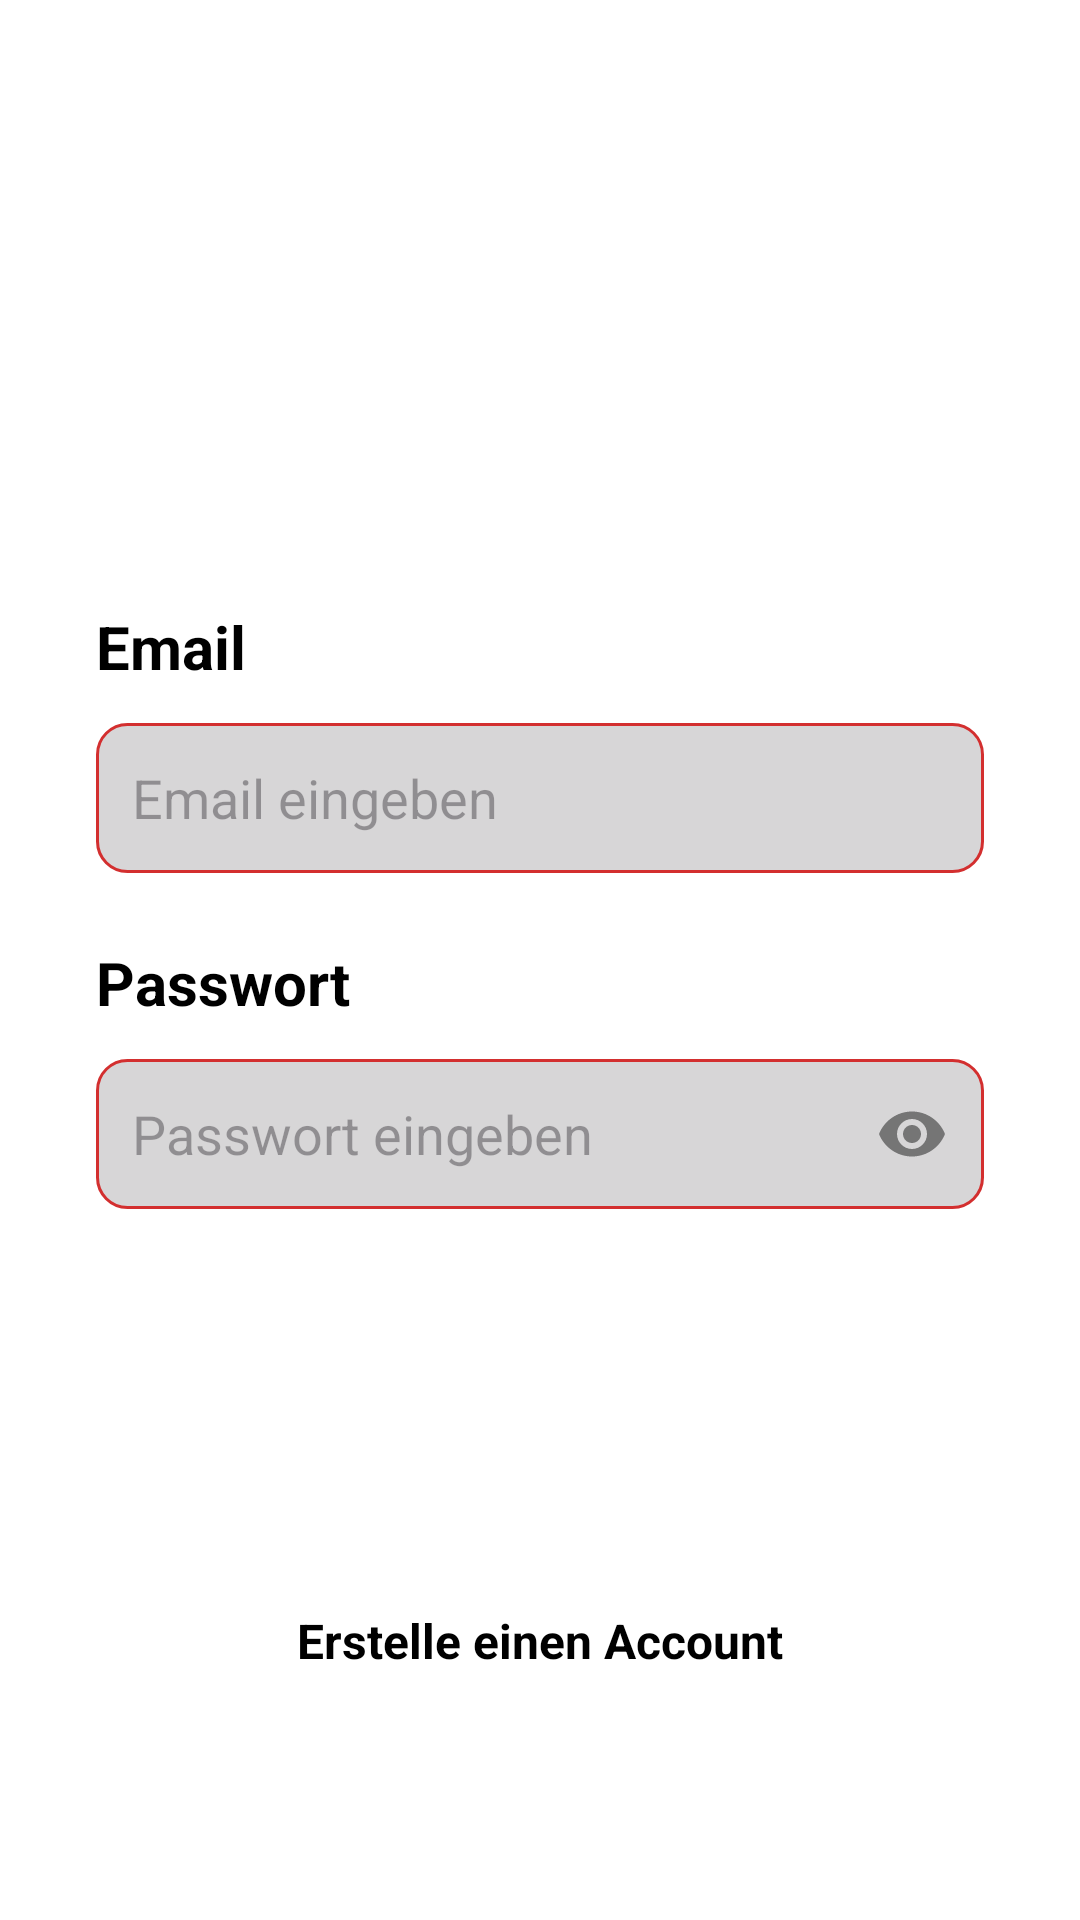

Icons on this 1080px×1920px Android screen, each with the point to tap as (x=x, y=y):
Toggle password visibility: (x=912, y=1134)
